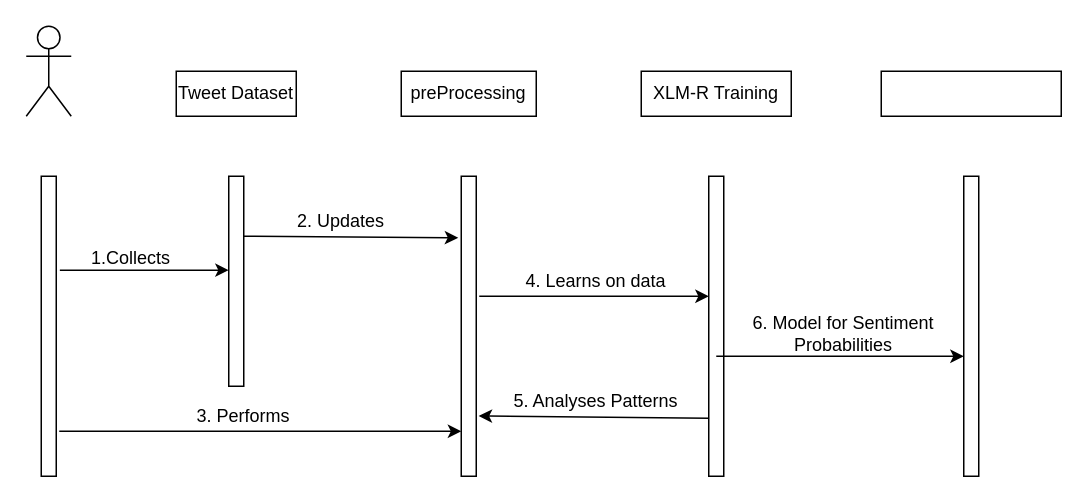
Some shapes in this 1088 by 503 pixel diagram are drawn without their labels. Each missing label, with the centre of its shape:
"Deployed Best Model" belongs at point 970,93.
"User" belongs at point 48,70.
